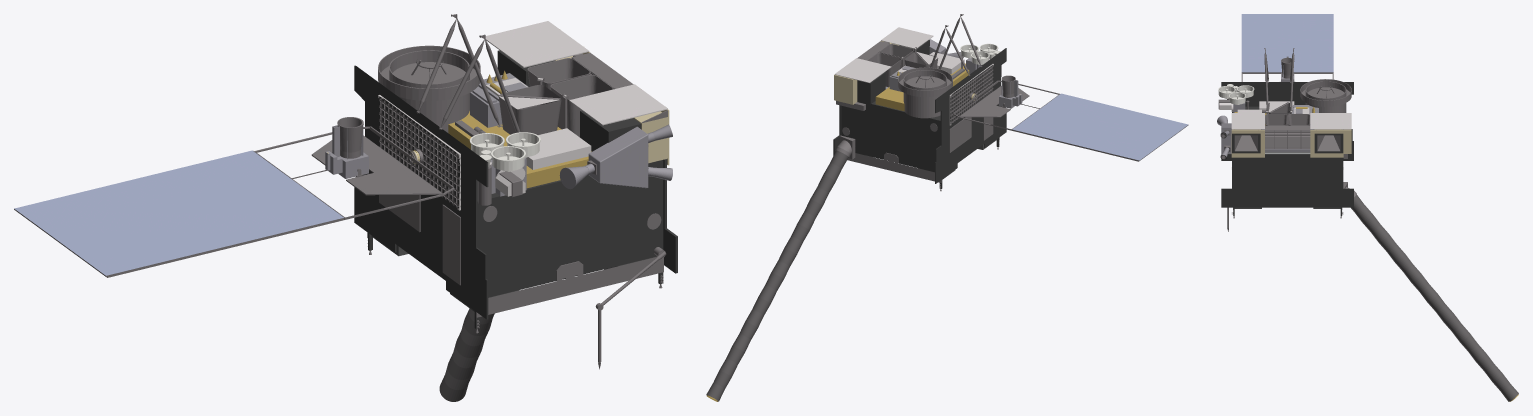
The model's file is goes.glb.
The picture shows the model from 3 angles, left to right: view 1: azimuth 30°, elevation 25°; view 2: azimuth 150°, elevation 25°; view 3: azimuth 270°, elevation 25°; orthographic projection. The views are drawn at different scales.
Parts seen in each view (by area): view 1: Layer_0; view 2: Layer_0; view 3: Layer_0.
Part boxes in pixels (left/top/right/bottom): Layer_0: left=14, top=14, right=677, bottom=401; Layer_0: left=706, top=14, right=1188, bottom=401; Layer_0: left=1217, top=14, right=1518, bottom=401.
Bounding box in the file's own units: 0.1344 × 0.122 × 0.1114.
2 materials, 2 textured.
